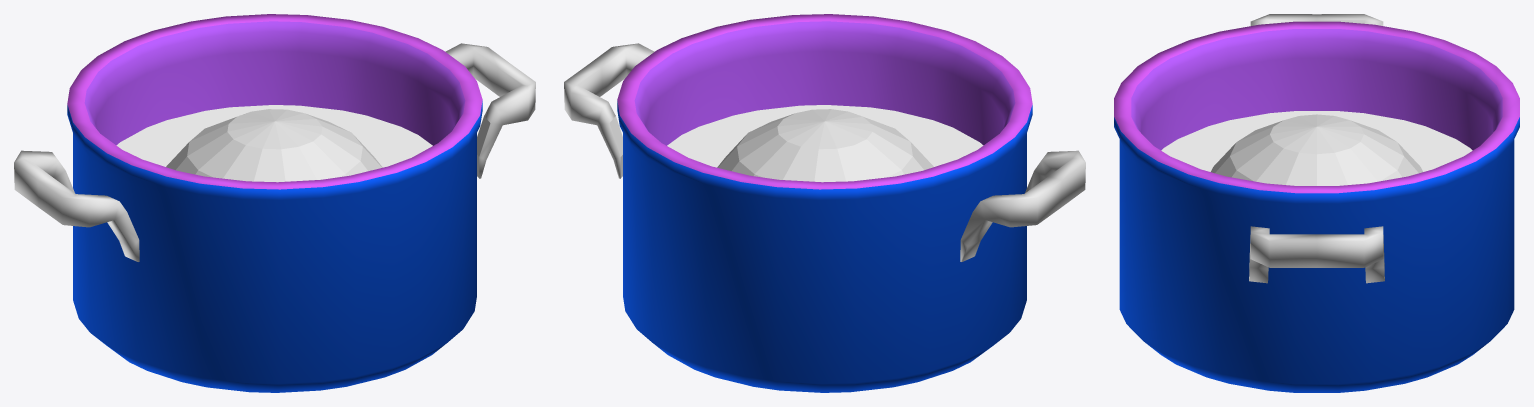
The model's file is ProofedDoughPot.fbx.
3 renders of one model, left to right at view 1: azimuth 30°, elevation 25°; view 2: azimuth 150°, elevation 25°; view 3: azimuth 270°, elevation 25°, orthographic.
Parts seen in each view (by area): view 1: Cylinder, Bread.001, Cylinder.001, Water; view 2: Cylinder, Bread.001, Cylinder.001, Water; view 3: Cylinder, Bread.001, Cylinder.001, Water.
Boxes of the visible parts, x1,y1,x2,y2 form: Cylinder: (67,14,482,392); Bread.001: (166,109,382,182); Cylinder.001: (14,43,535,261); Water: (116,105,432,167); Cylinder: (617,14,1032,392); Bread.001: (717,109,933,182); Cylinder.001: (564,43,1085,261); Water: (667,105,983,167); Cylinder: (1114,21,1519,392); Bread.001: (1211,114,1422,185); Cylinder.001: (1249,14,1384,283); Water: (1161,111,1472,171).
Size of the model in its own units: 83.38 by 35.99 by 62.94.
